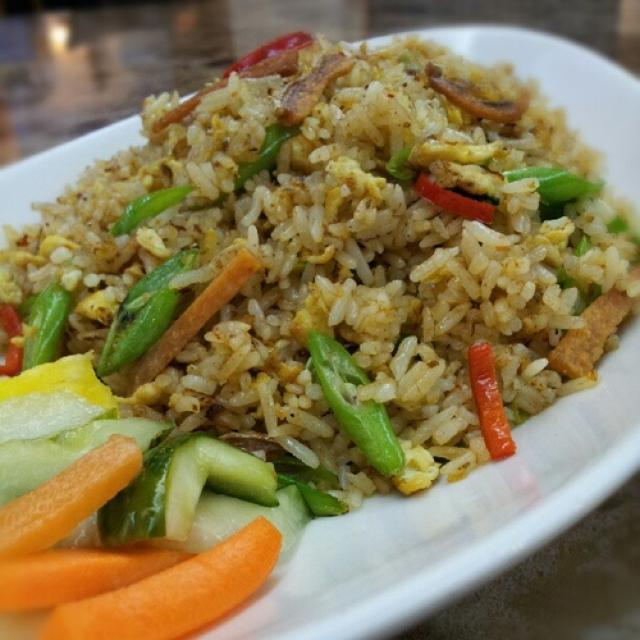米饭主食: (18, 26, 619, 604)
